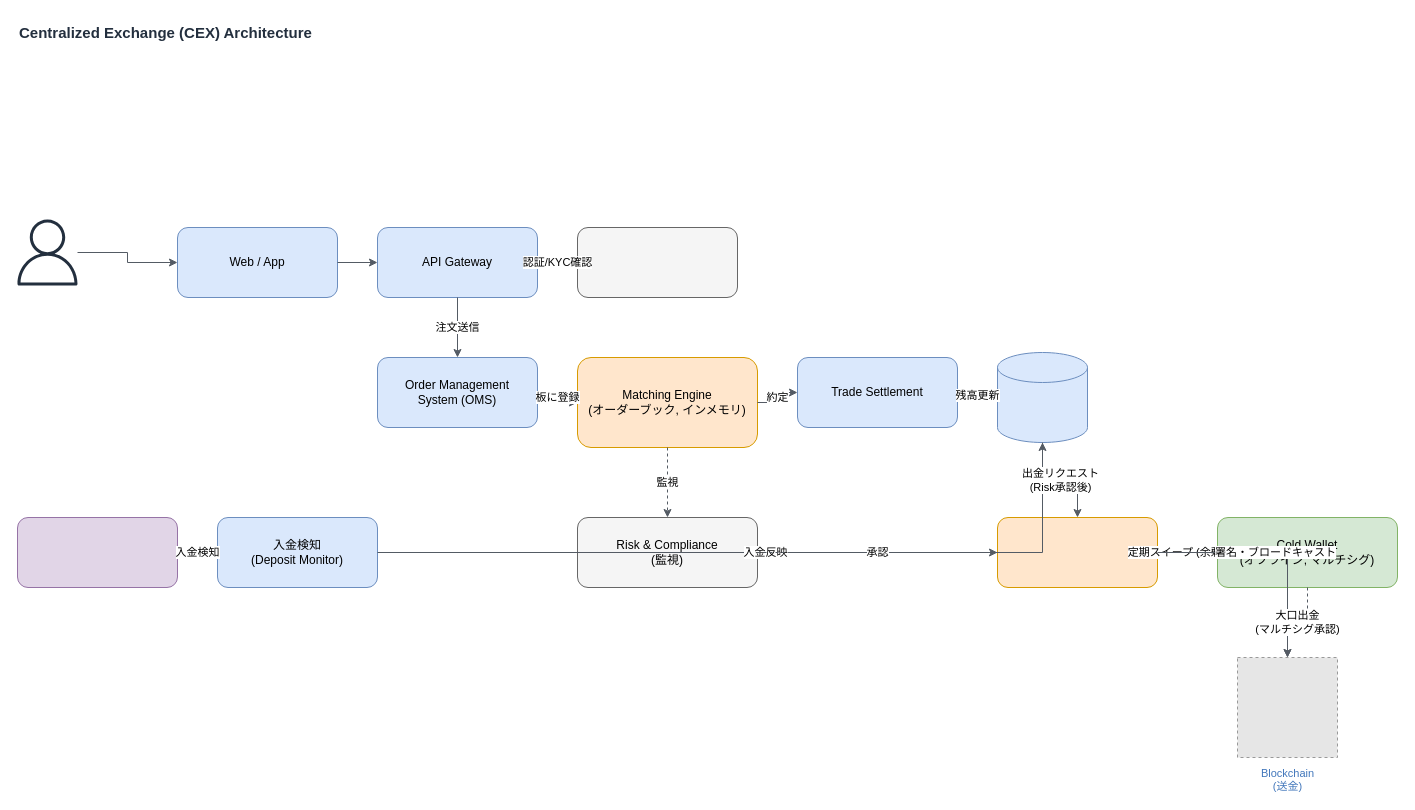
The diagram is 1415 pixels wide and 810 high, and some of its shapes have lost their labels. Grey dashed boxes stand in for pictures. The centre of each missing label's shape, as x and y in pixels:
Auth / KYC: the point at 657,262
Blockchain Node (入金監視): the point at 97,552
Hot Wallet (自動出金用, 少額): the point at 1077,552
Ledger DB (残高): the point at 1042,397
User: the point at 47,252
